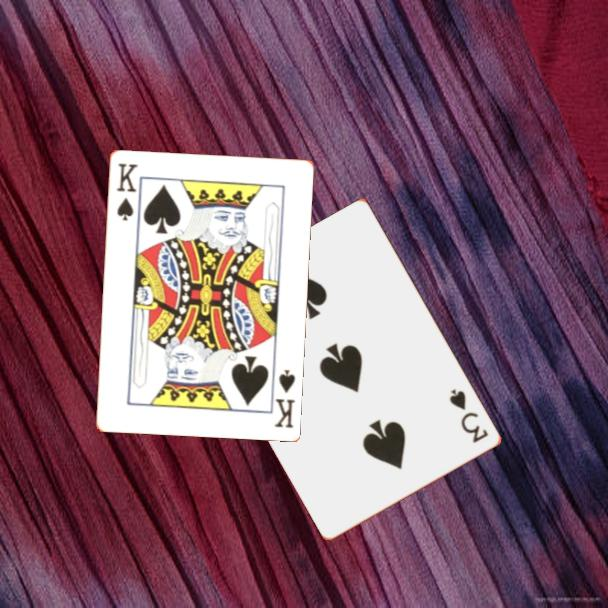s03: (446, 385, 491, 446)
s13: (113, 159, 140, 223), (271, 366, 298, 430)
